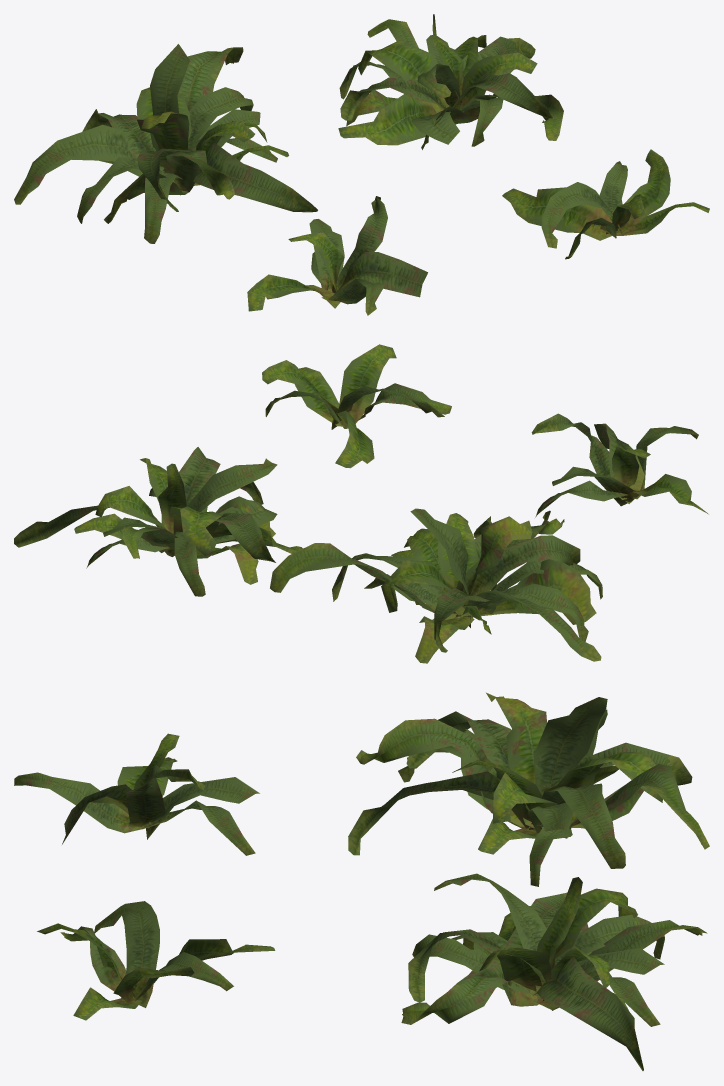
The model's file is fern.glb.
3 views of the same model, one above another, from view 1: azimuth 30°, elevation 25°; view 2: azimuth 150°, elevation 25°; view 3: azimuth 270°, elevation 25° (orthographic). The views are drawn at different scales.
Visible parts, largest first — view 1: fern_02_b; view 2: fern_02_b; view 3: fern_02_b.
Boxes of the visible parts, <box> form: fern_02_b: <box>14,14,709,315</box>; fern_02_b: <box>14,344,708,663</box>; fern_02_b: <box>14,692,709,1070</box>.
Bounding box in the file's own units: 1.97 × 0.4277 × 1.72.
Materials: 1 (1 with a texture image).
